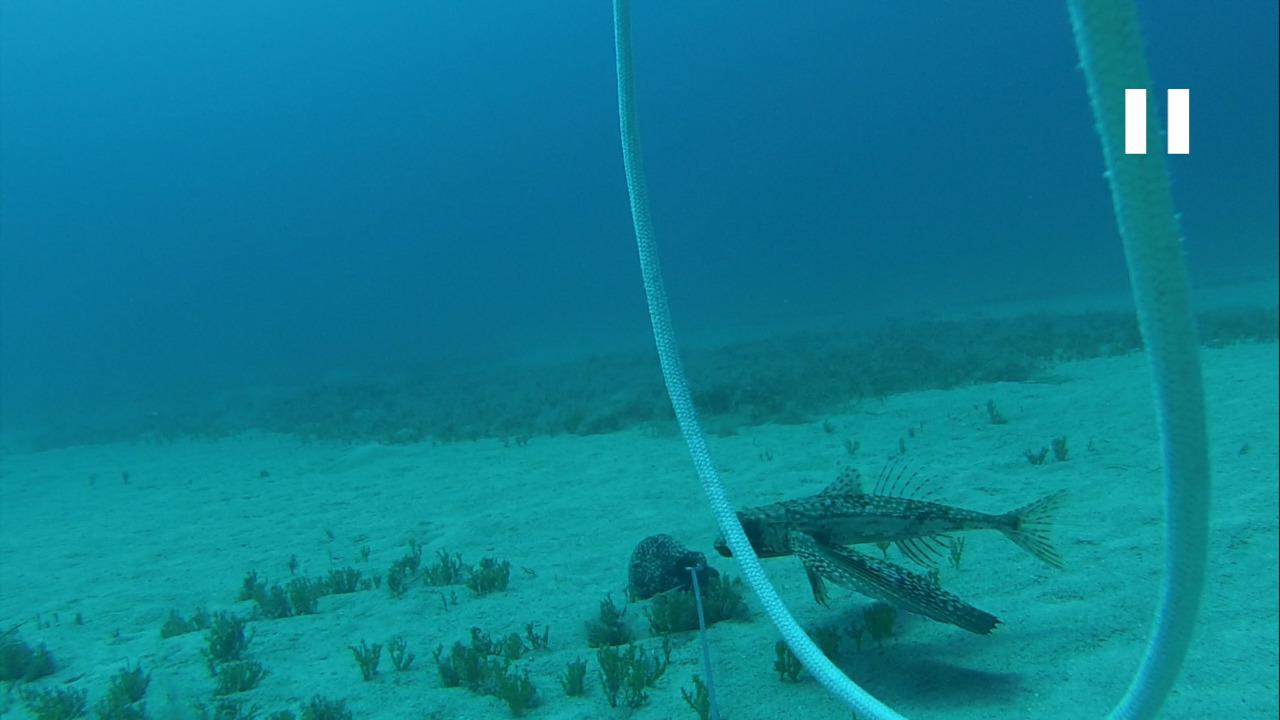dactylopterus: (713, 453, 1077, 636)
